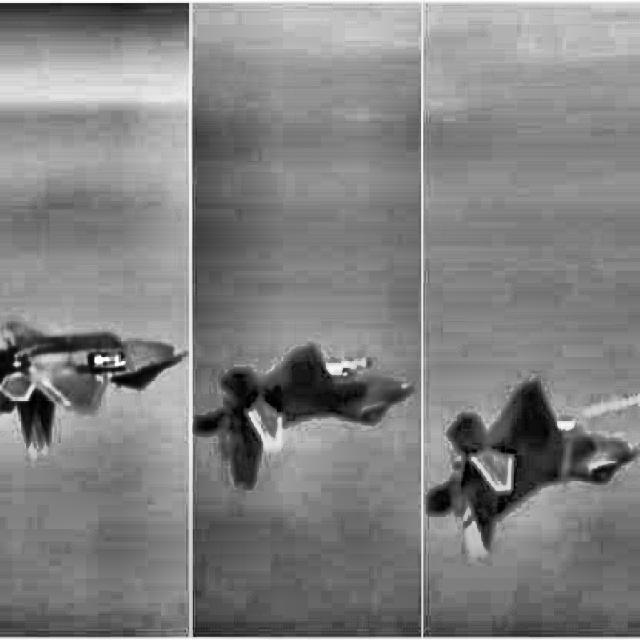F22: (427, 378, 639, 557), (193, 344, 418, 491), (1, 314, 190, 461)
